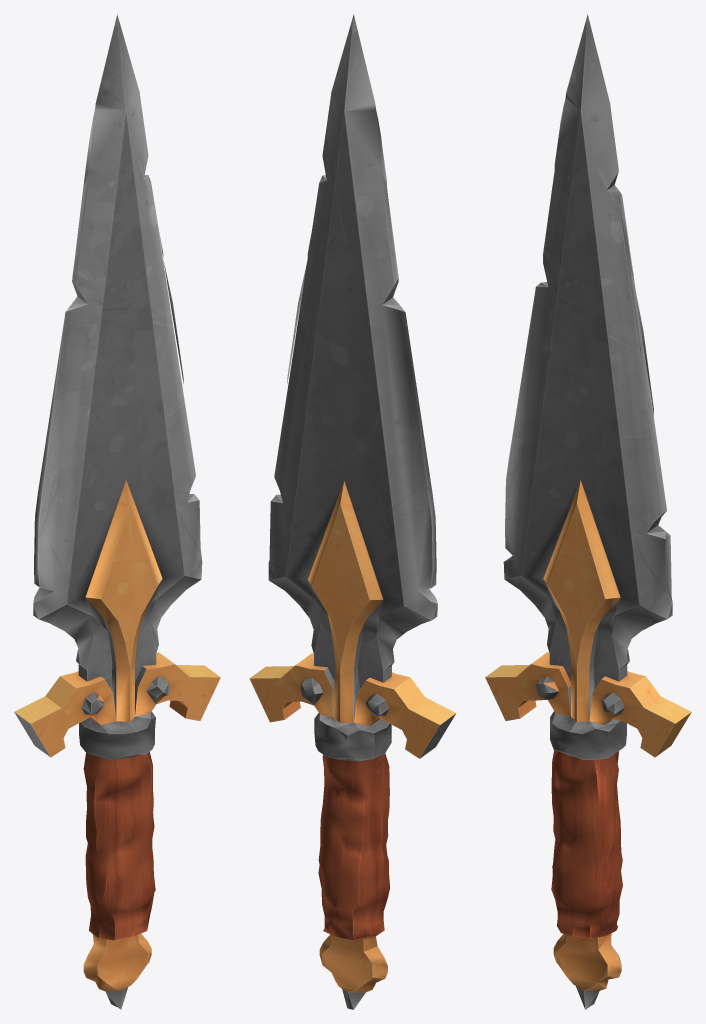
File: Dagger.gltf
3 views of the same model, side by side, from view 1: azimuth 30°, elevation 25°; view 2: azimuth 150°, elevation 25°; view 3: azimuth 330°, elevation 25° (orthographic).
Parts seen in each view (by area): view 1: SM_Dagger; view 2: SM_Dagger; view 3: SM_Dagger.
Part boxes in pixels (<box>): SM_Dagger: <box>14,14,220,1009</box>; SM_Dagger: <box>249,14,456,1009</box>; SM_Dagger: <box>485,14,691,1009</box>.
Size of the model in its own units: 0.1164 by 0.5804 by 0.04.
Materials: 1 (1 with a texture image).
